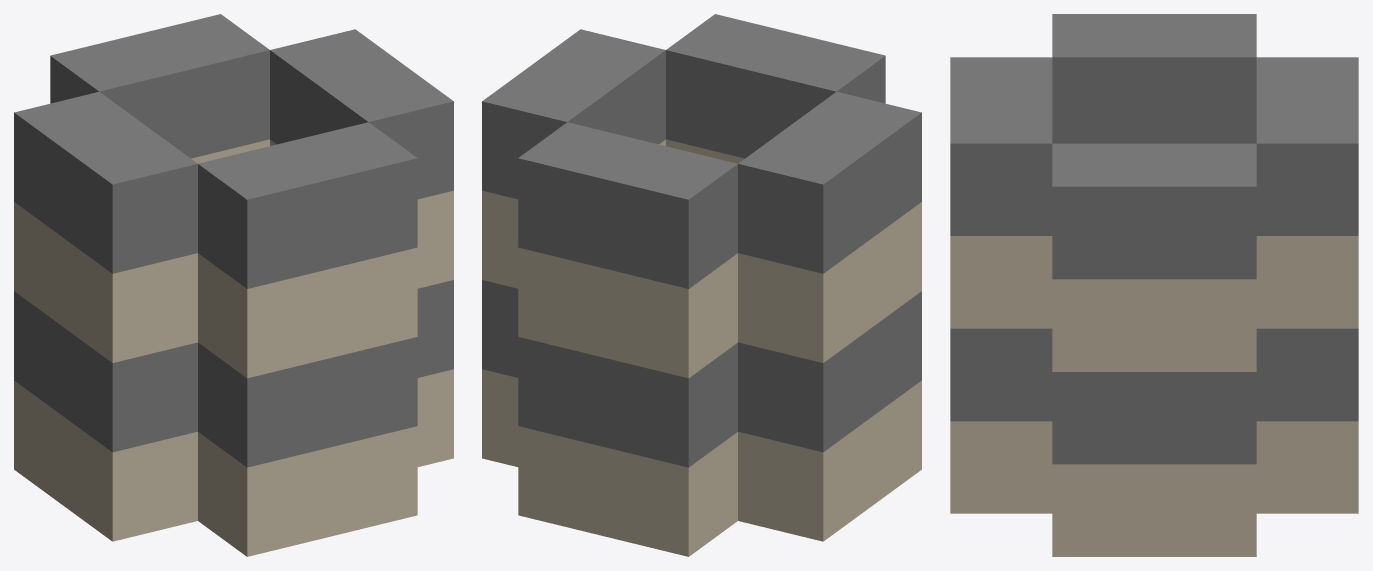
The model's file is barrel_c_v1.fbx.
3 renders of one model, left to right at view 1: azimuth 30°, elevation 25°; view 2: azimuth 150°, elevation 25°; view 3: azimuth 270°, elevation 25°, orthographic. The views are drawn at different scales.
Visible parts, largest first — view 1: barrel_c; view 2: barrel_c; view 3: barrel_c.
Boxes of the visible parts, bbox=[...] form: barrel_c: bbox=[14, 14, 453, 556]; barrel_c: bbox=[482, 14, 921, 556]; barrel_c: bbox=[950, 14, 1358, 556].
Size of the model in its own units: 4 by 4 by 4.
